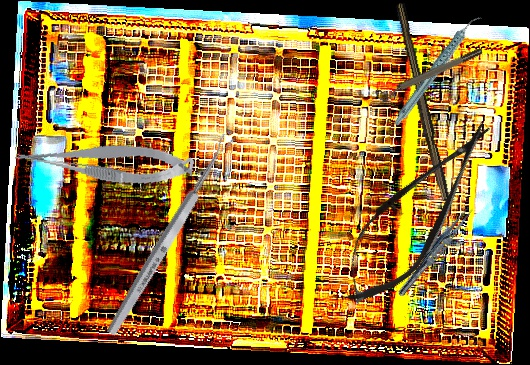Fixation Ring: (375, 45, 486, 105)
Handpiece: (374, 13, 501, 128)
Micro Scissor: (321, 103, 514, 321), (13, 125, 196, 196)
Scalpel Handle: (389, 2, 454, 203)
Surgical Spoon: (103, 132, 237, 338)
Tissue Forceps: (395, 201, 477, 301)
